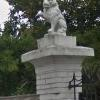Statue: (14, 2, 89, 50)
